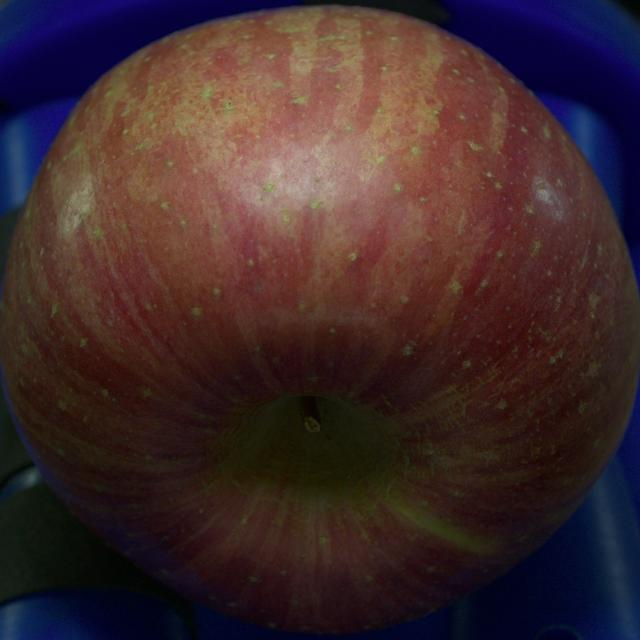apple: (0, 8, 639, 632)
